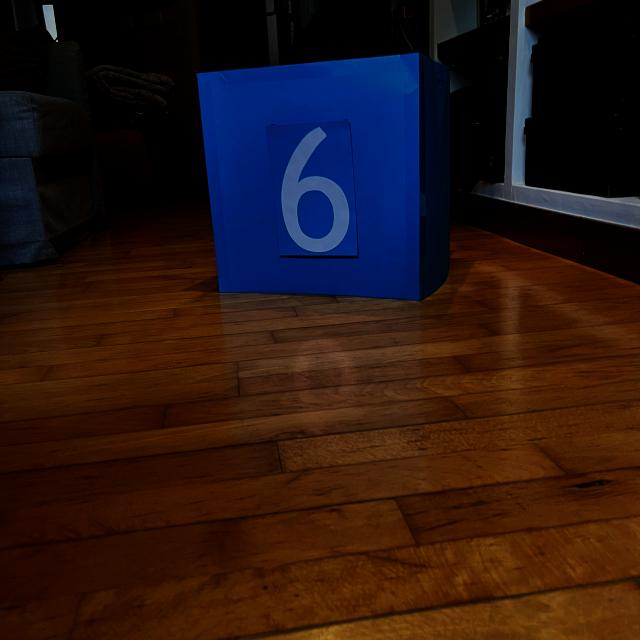box: (191, 49, 456, 304)
